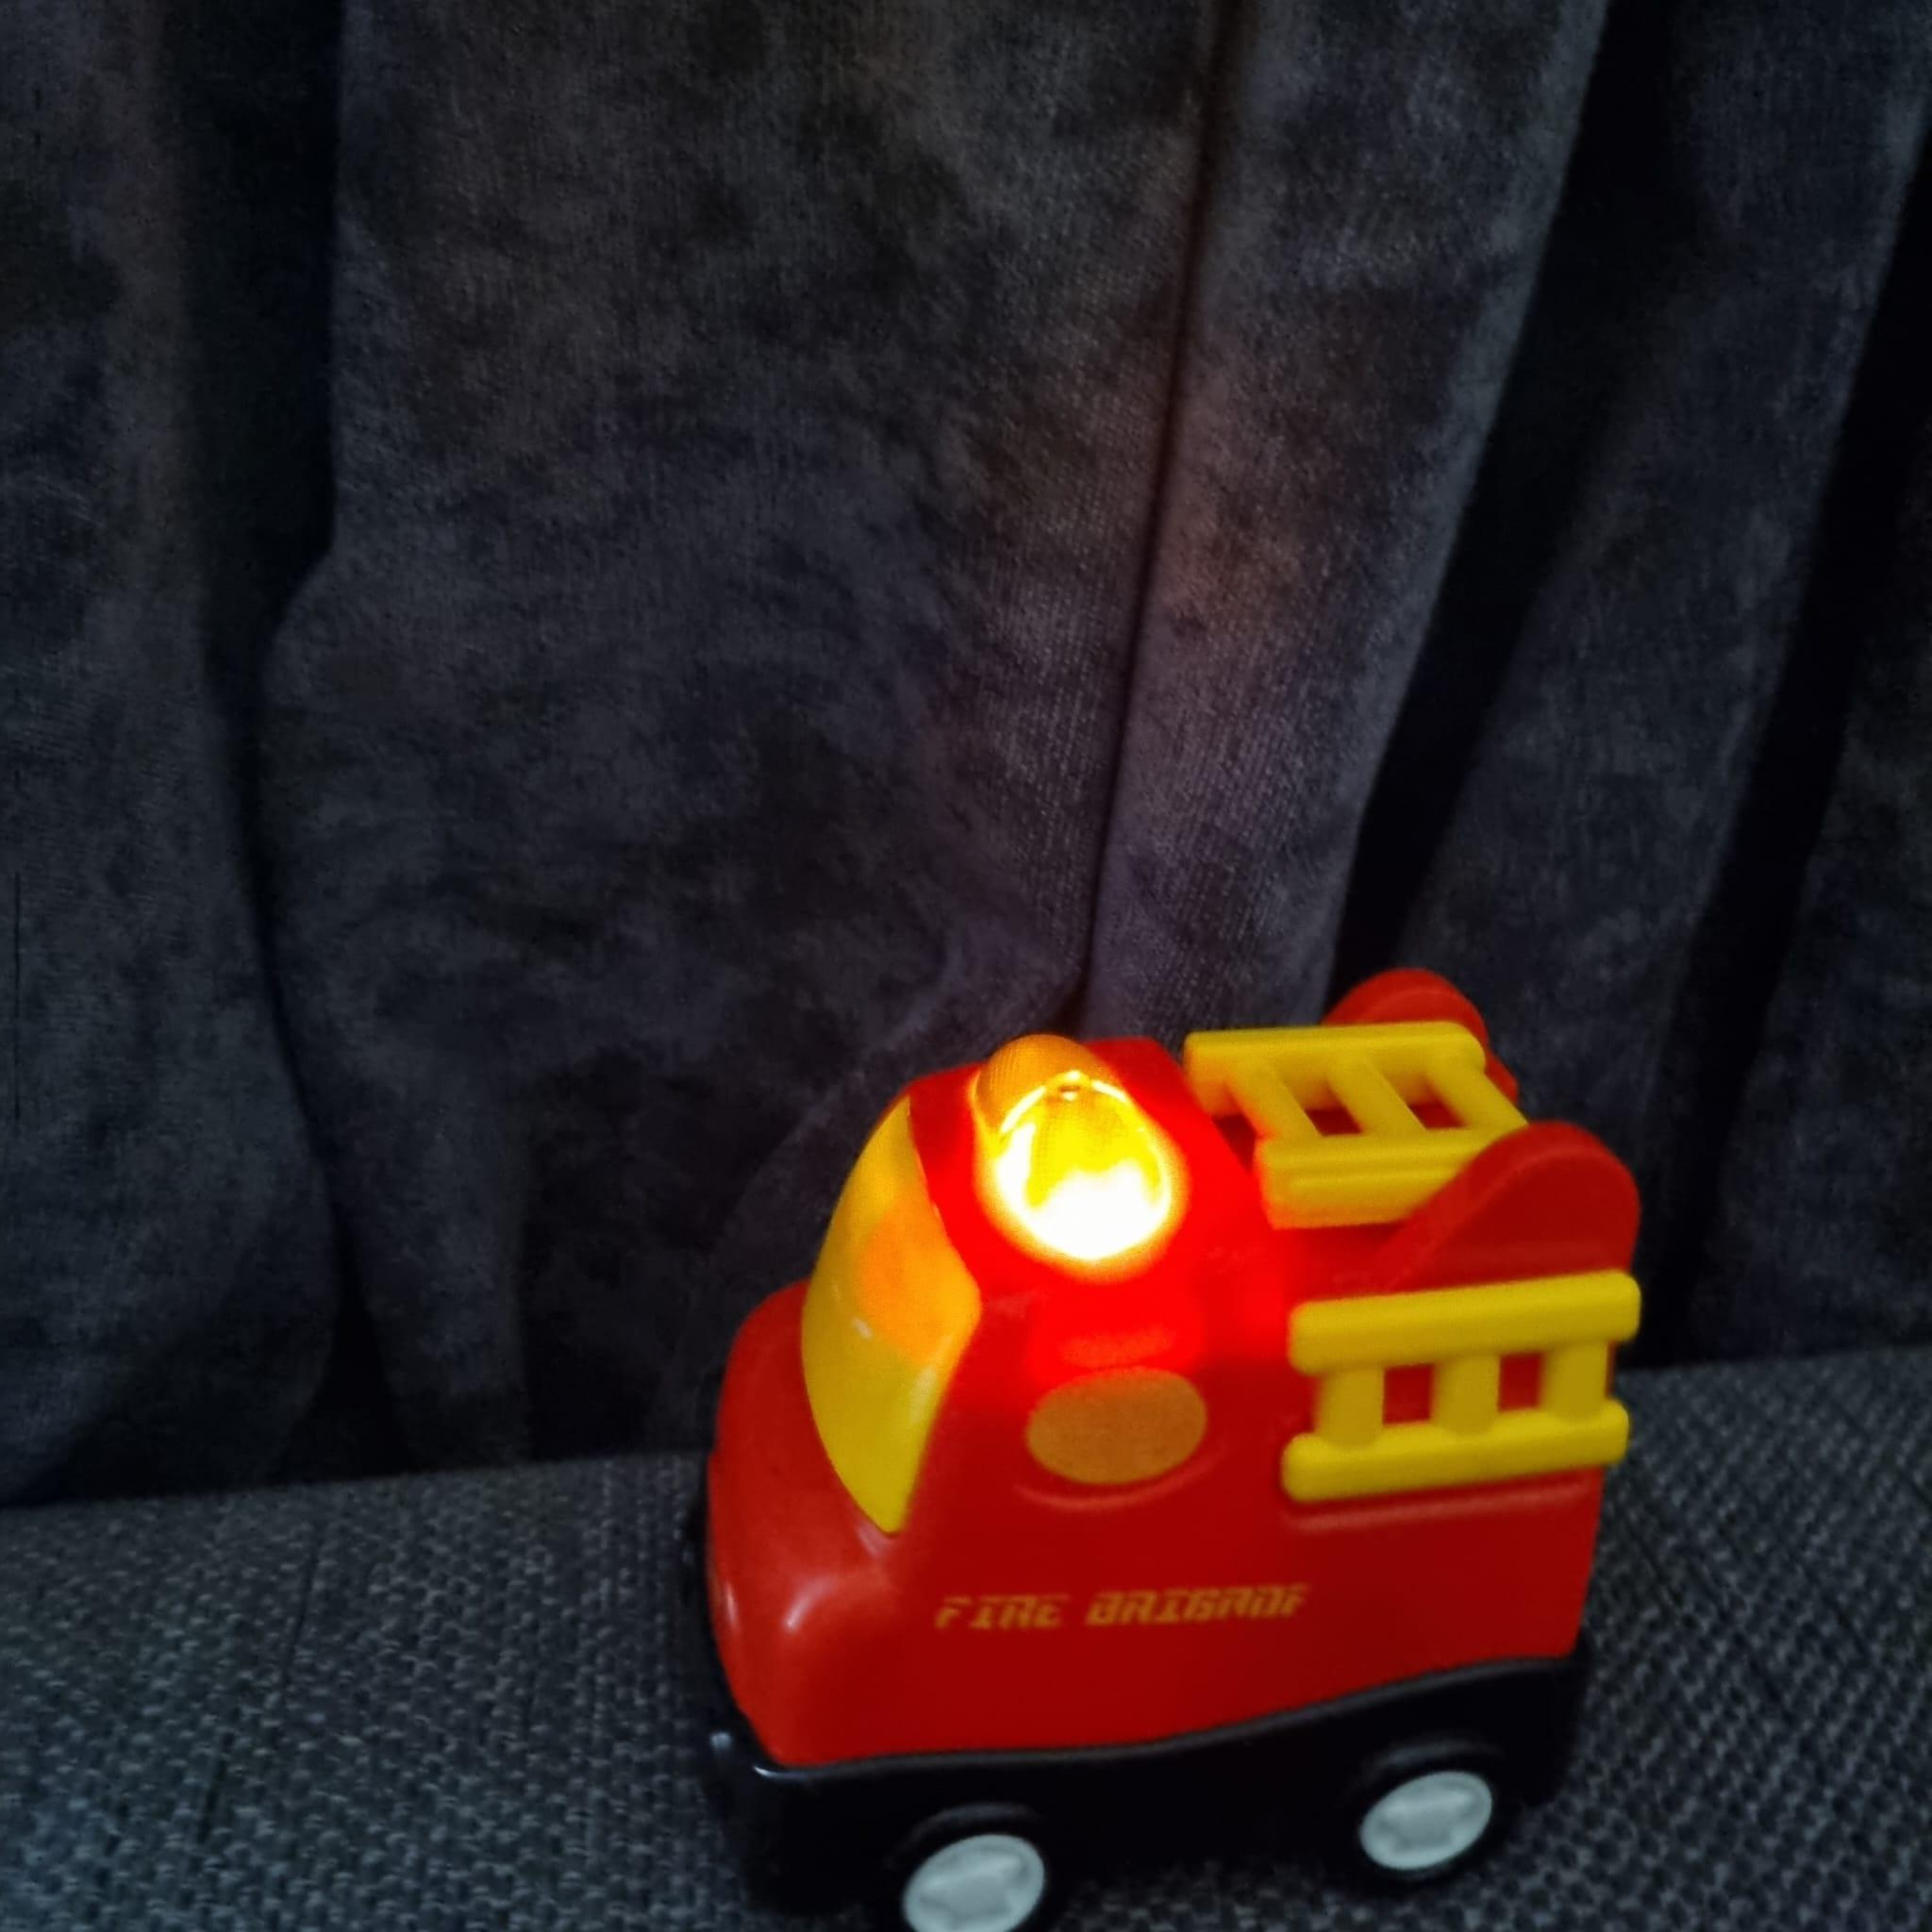firetruck_on: (679, 962, 1640, 1932)
